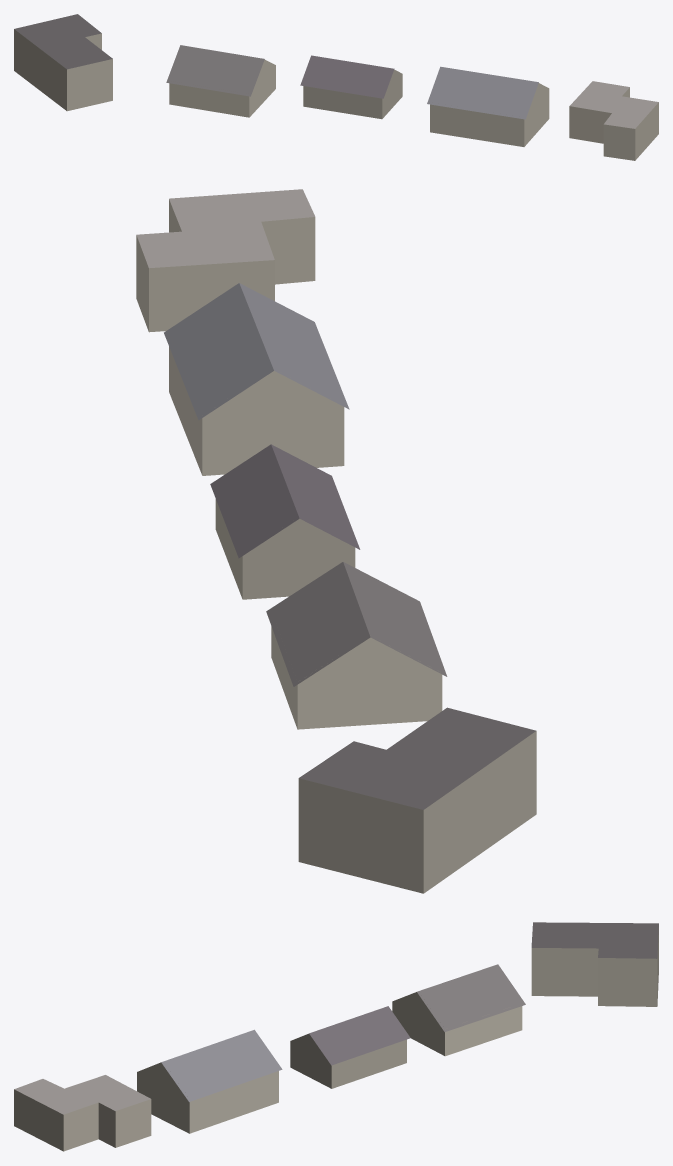
3 renders of one model, top to bottom at view 1: azimuth 30°, elevation 25°; view 2: azimuth 150°, elevation 25°; view 3: azimuth 270°, elevation 25°, orthographic. The views are drawn at different scales.
Parts seen in each view (by area): view 1: tuile; view 2: tuile; view 3: tuile.
Boxes of the visible parts, bbox=[...] form: tuile: bbox=[14, 14, 658, 160]; tuile: bbox=[136, 189, 536, 893]; tuile: bbox=[14, 922, 658, 1151].
Bounding box in the file's own units: 67.5 × 11.92 × 84.5.
